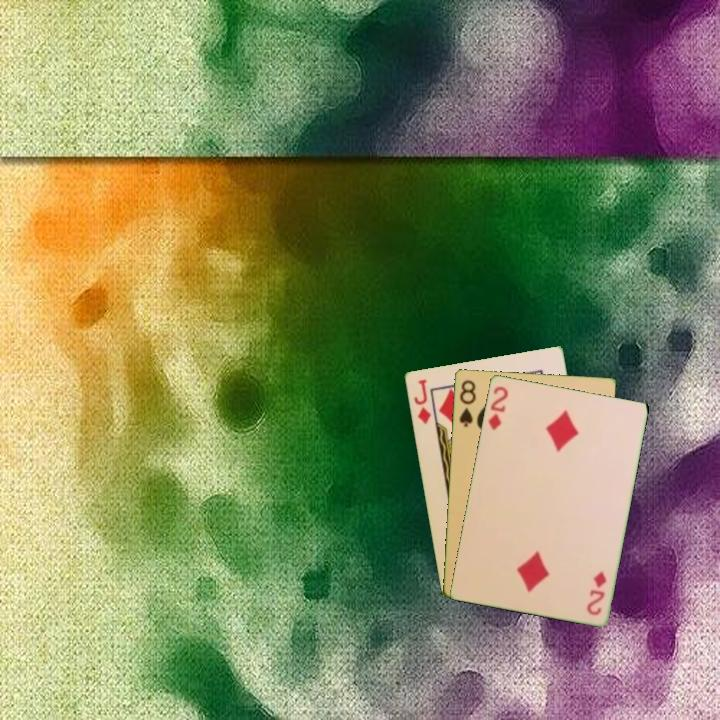2d: (484, 382, 511, 433), (583, 568, 609, 618)
8s: (455, 376, 478, 430)
Jd: (410, 375, 433, 427)
